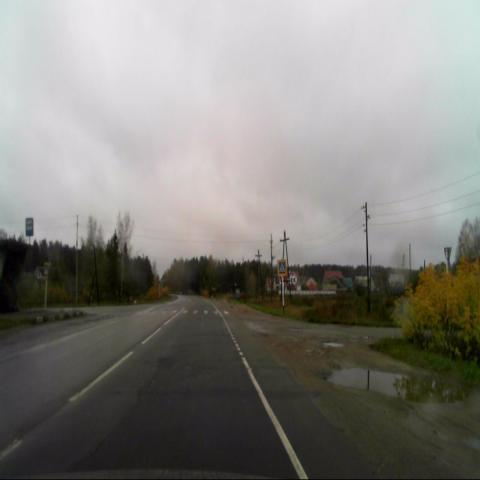5_16: (26, 217, 34, 235)
5_19_1: (277, 259, 287, 276)
